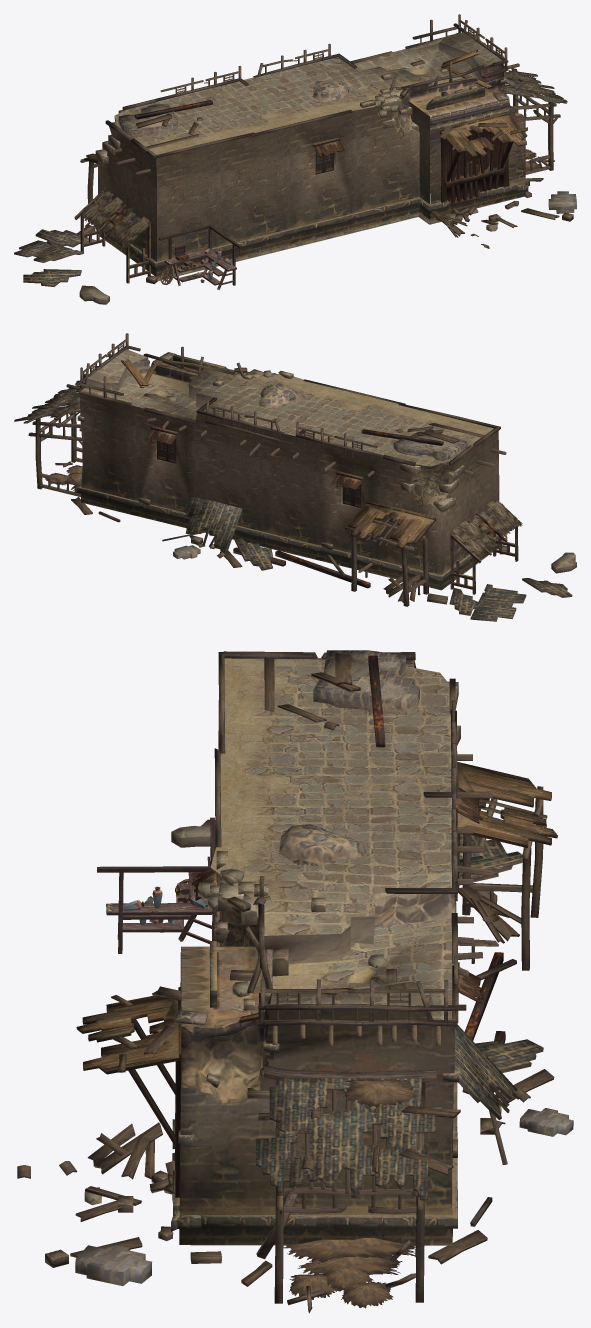
File: FeiXuAll1_FangZi04.FBX
3 views of the same model, one above another, from view 1: azimuth 30°, elevation 25°; view 2: azimuth 150°, elevation 25°; view 3: azimuth 270°, elevation 25° (orthographic). The views are drawn at different scales.
Visible parts, largest first — view 1: DrawCall_0231, DrawCall_0232, DrawCall_0230, FeiXuAll1_FangZi04; view 2: DrawCall_0231, DrawCall_0230, DrawCall_0232, FeiXuAll1_FangZi04; view 3: DrawCall_0230, DrawCall_0232, DrawCall_0231, FeiXuAll1_FangZi04.
Part boxes in pixels (x1,y1,x2,y2): DrawCall_0231: [84, 49, 573, 283]; DrawCall_0232: [79, 32, 502, 304]; DrawCall_0230: [14, 14, 576, 286]; FeiXuAll1_FangZi04: [74, 191, 241, 290]; DrawCall_0231: [77, 354, 506, 590]; DrawCall_0230: [14, 333, 572, 621]; DrawCall_0232: [81, 349, 576, 573]; FeiXuAll1_FangZi04: [450, 501, 518, 594]; DrawCall_0230: [17, 651, 573, 1313]; DrawCall_0232: [84, 650, 501, 1205]; DrawCall_0231: [45, 661, 557, 1267]; FeiXuAll1_FangZi04: [97, 817, 216, 953].
Size of the model in its own units: 2306 by 580 by 1037.
